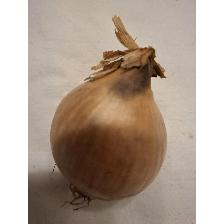Zwiebel: (47, 14, 170, 210)
